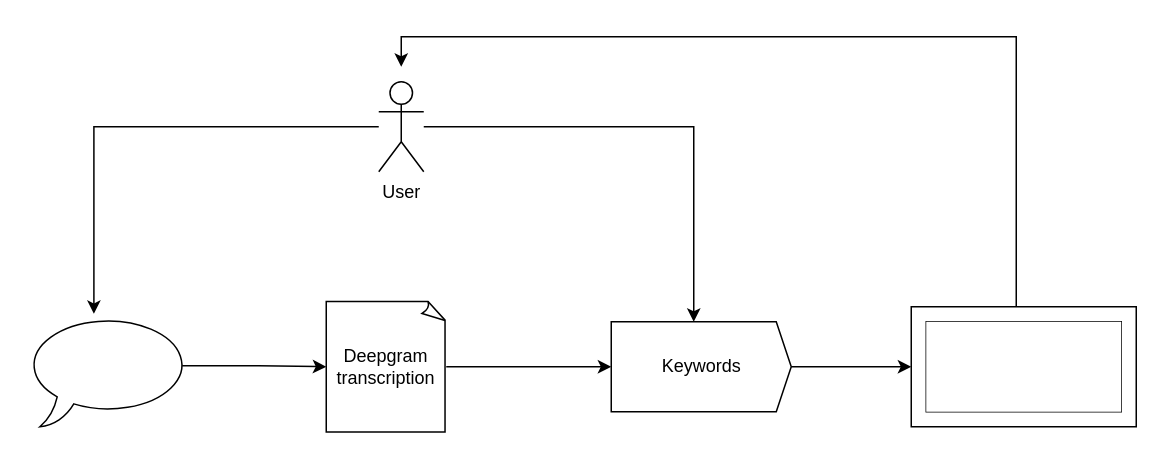
This 1163x459 diagram has some shape labels left out. Each missing label, with the centre of its shape:
"Audio & text keyword matches in audio sources" belongs at pixel 1023 366.
"Audio sources" belongs at pixel 108 370.
